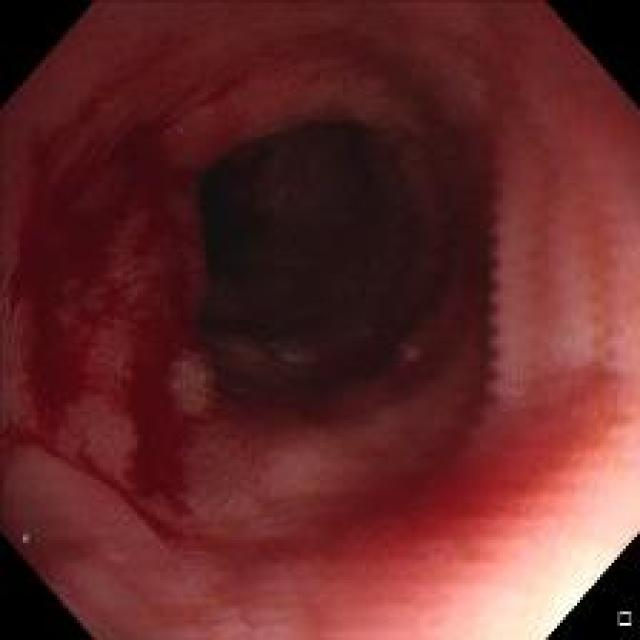blood: (22, 114, 136, 398), (1, 414, 180, 546), (118, 259, 194, 496)
color misalignment: (580, 149, 618, 414), (482, 148, 505, 416), (386, 331, 425, 368), (15, 520, 40, 554)
contrast: (174, 96, 485, 431)
saturation: (465, 482, 630, 638)
